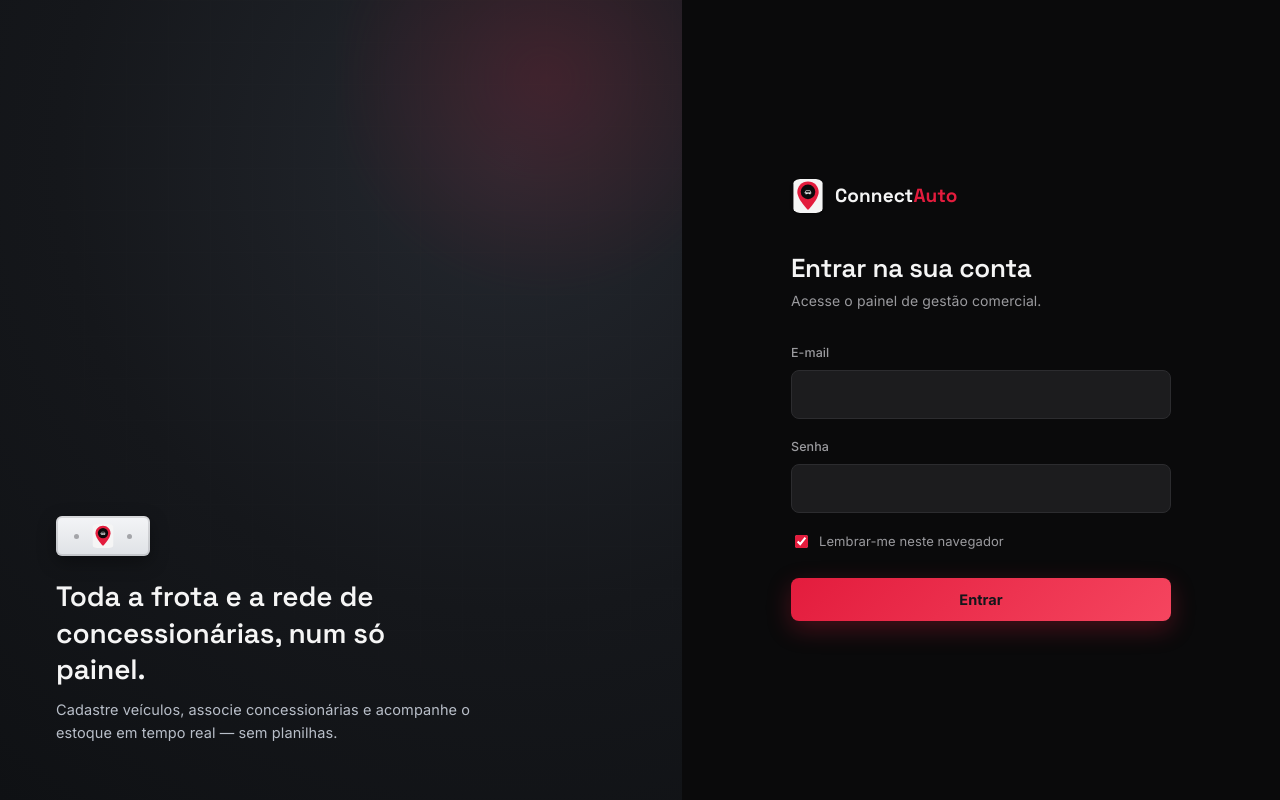
Test case: LoginPage › shows validation errors when submitting empty fields
Click the button "Entrar". click: {"x": 981, "y": 599}
box: [791,578,1171,621]
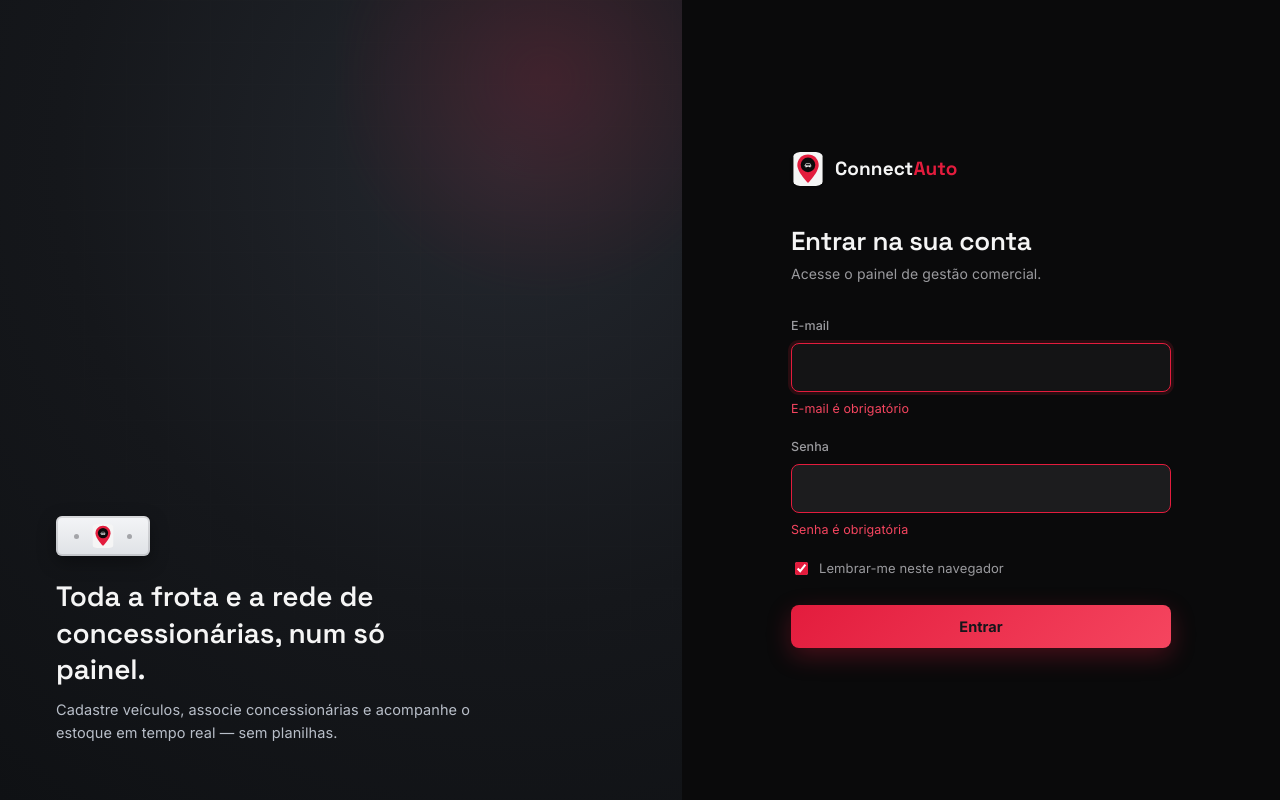
expect the text "Senha é obrigatória" is shown: met, box [791,522,908,537]
